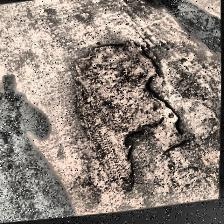pothole: (70, 34, 188, 206)
